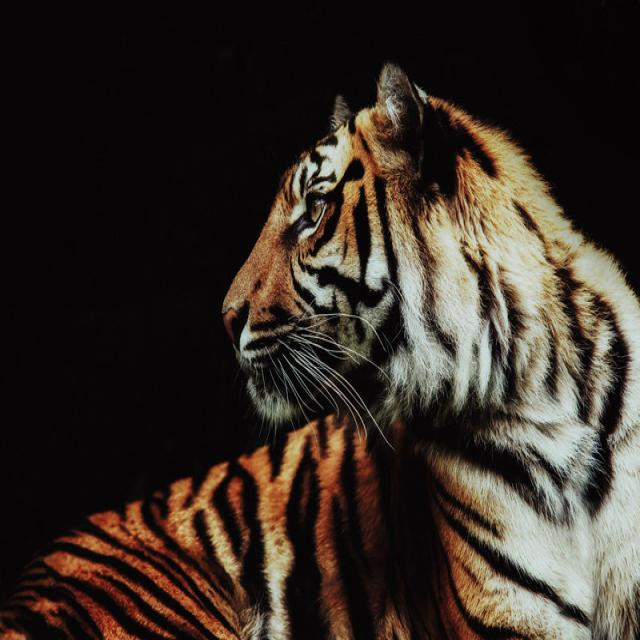Tiger: (1, 60, 634, 639)
